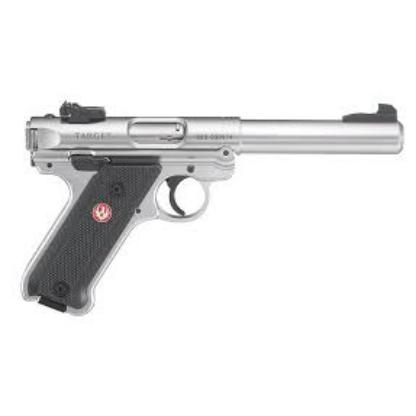gun: (21, 102, 403, 312)
